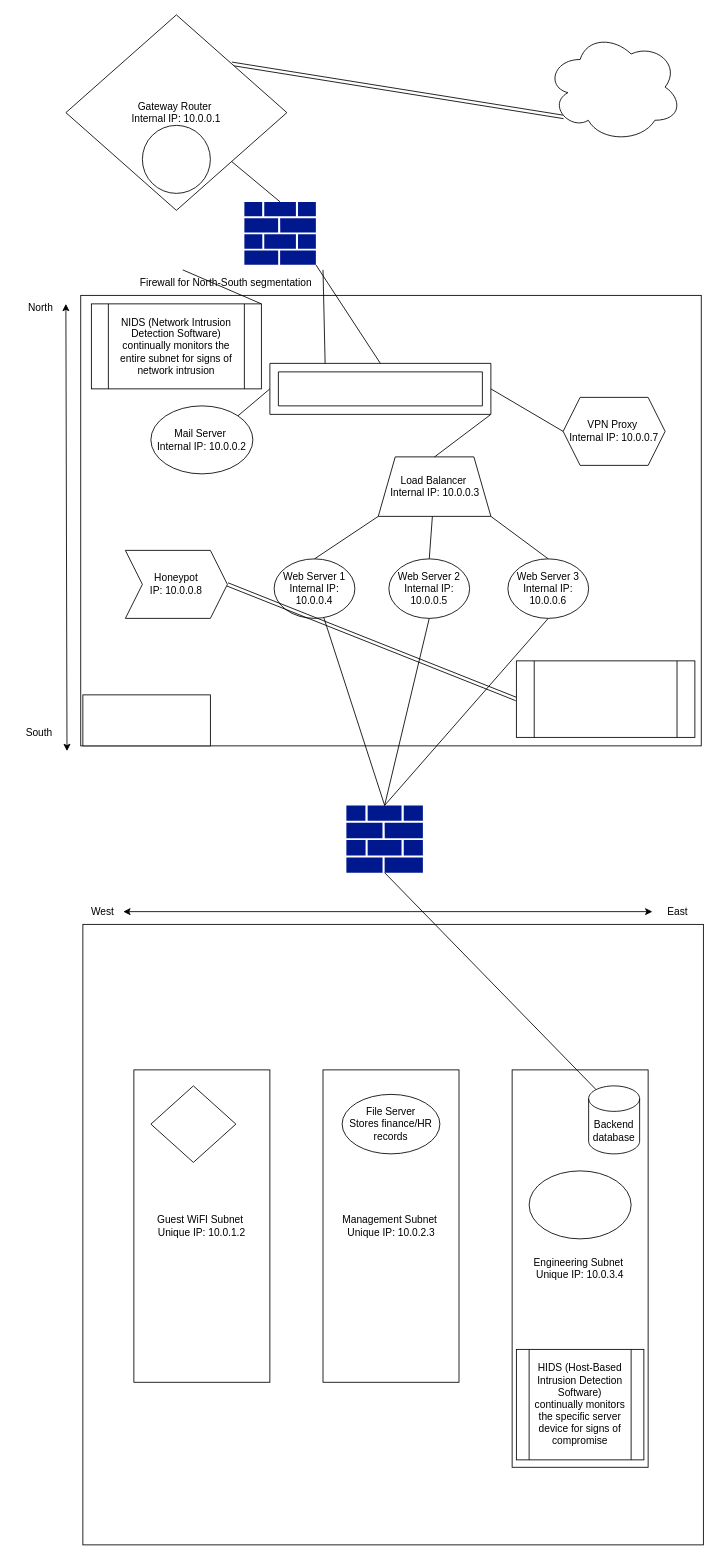
The diagram is 718 pixels wide and 1560 high, and some of its shapes have lost their labels. Each missing label, with the centre of its shape:
"Access Point" goes at (193,1123).
"DMZ" goes at (146,720).
"File Server Stores sensitive company tradecraft" goes at (579,1204).
"Firewall for East-West Segmentation" goes at (384,838).
"Internet" goes at (613,86).
"NAT External IP: 75.174.5.100" goes at (176,159).
"NSM Used as a network sniffer to collect traffic from the honeypot covertly." goes at (605,698).
"Switch" goes at (380,388).
